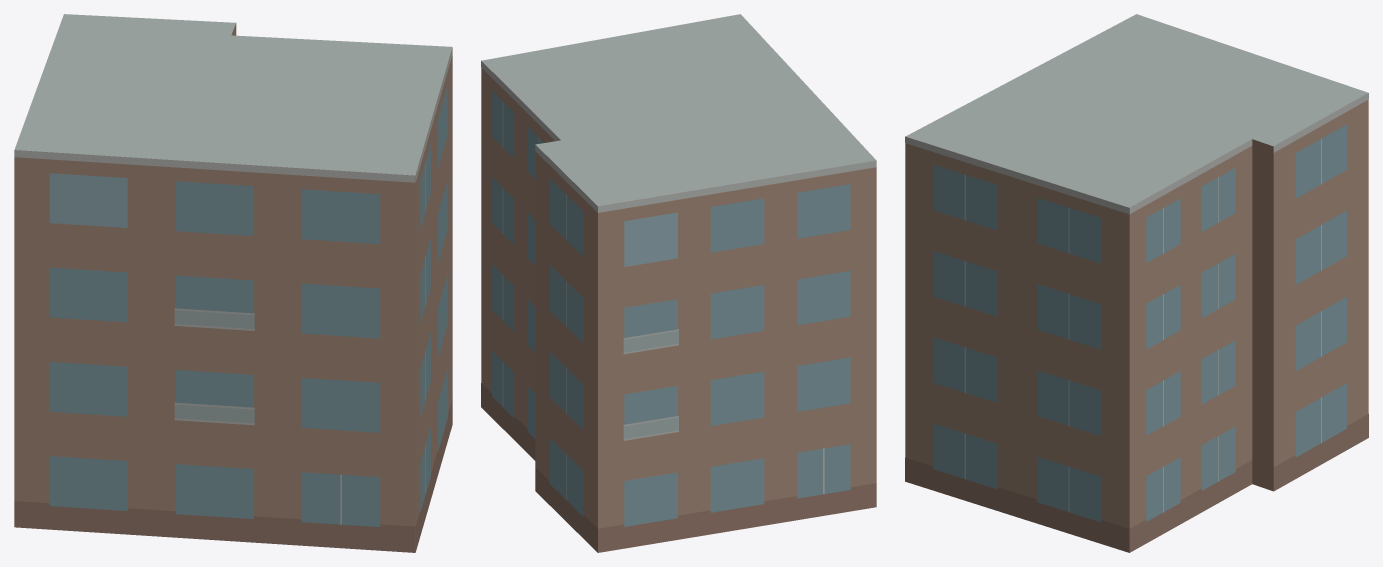
Rendered from survey-upis-32911183.glb.
3 renders of one model, left to right at view 1: azimuth 30°, elevation 25°; view 2: azimuth 150°, elevation 25°; view 3: azimuth 270°, elevation 25°, orthographic. The views are drawn at different scales.
Parts seen in each view (by area): view 1: survey-upis-32911183.tmp; view 2: survey-upis-32911183.tmp; view 3: survey-upis-32911183.tmp.
Boxes of the visible parts, bbox=[...] form: survey-upis-32911183.tmp: bbox=[14, 14, 452, 552]; survey-upis-32911183.tmp: bbox=[481, 14, 876, 552]; survey-upis-32911183.tmp: bbox=[905, 14, 1368, 552].
Size of the model in its own units: 15.43 by 12.8 by 15.59.
